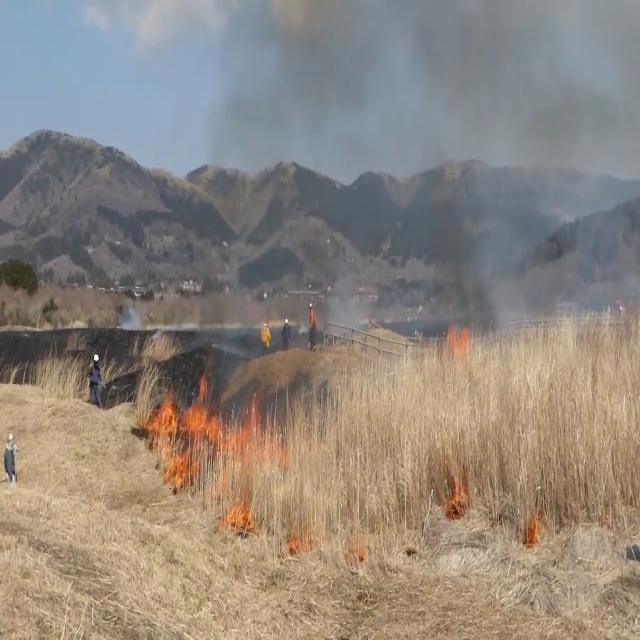Fire: (150, 372, 228, 470)
Smoke: (165, 0, 640, 350), (426, 4, 640, 351)
